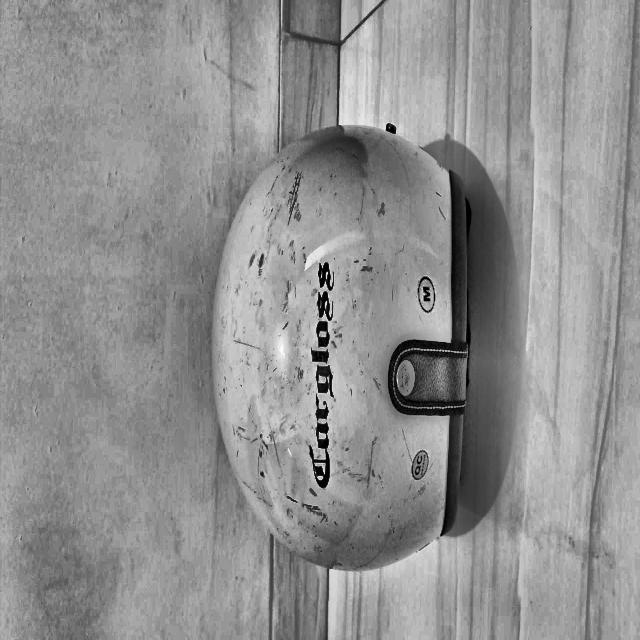Helmet: (24, 344, 303, 640)
